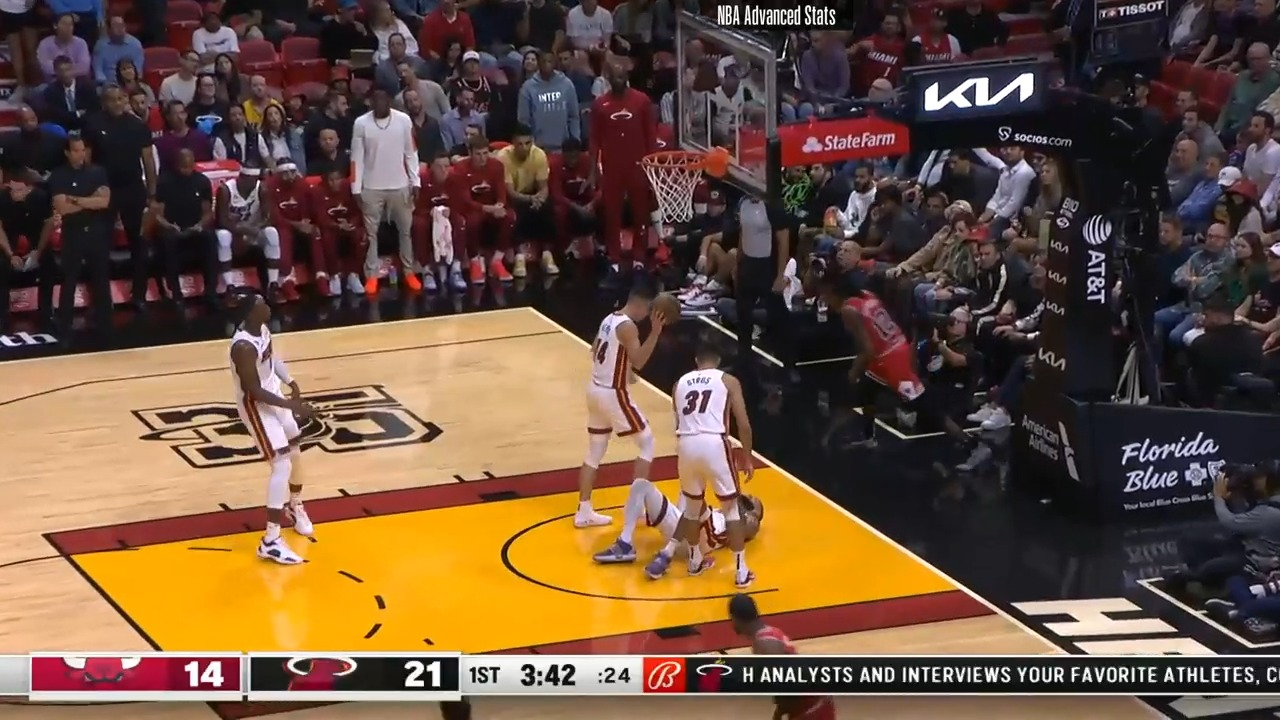net: (639, 137, 727, 221)
player: (217, 291, 330, 575), (576, 281, 682, 563), (651, 341, 765, 591), (826, 280, 948, 458), (598, 479, 770, 582)
referee: (712, 176, 787, 335)
